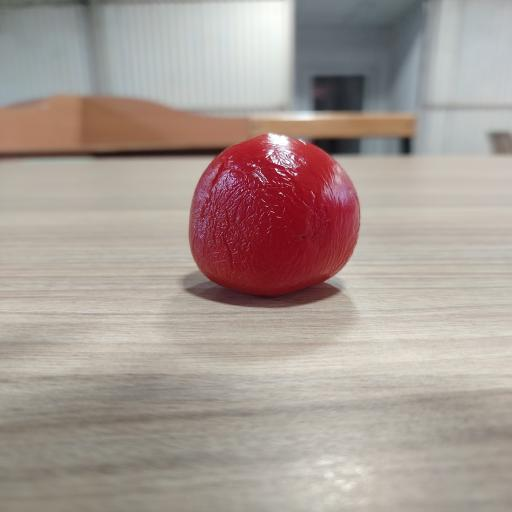spoiled: (189, 134, 360, 295), (298, 194, 300, 196)
